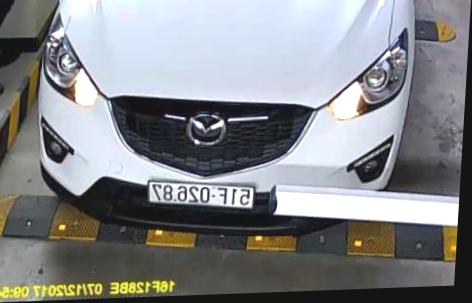License_Plate: (138, 171, 260, 215)
